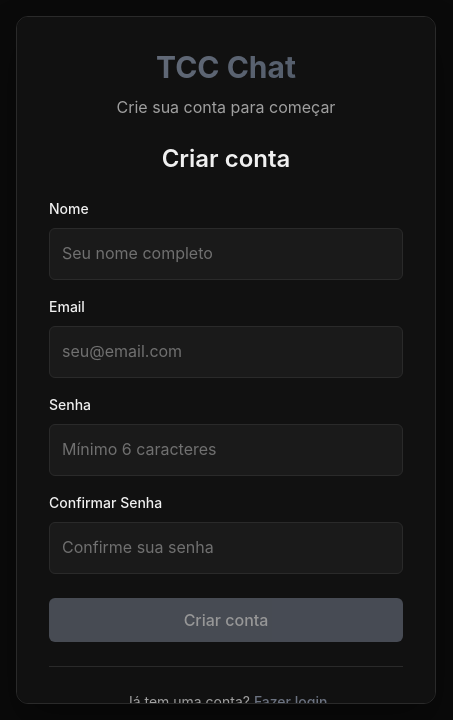
Test: Authentication Flow › Register Page › should navigate to login page
Click the link to "/login": coordinates (291, 702) [254,693,328,710]
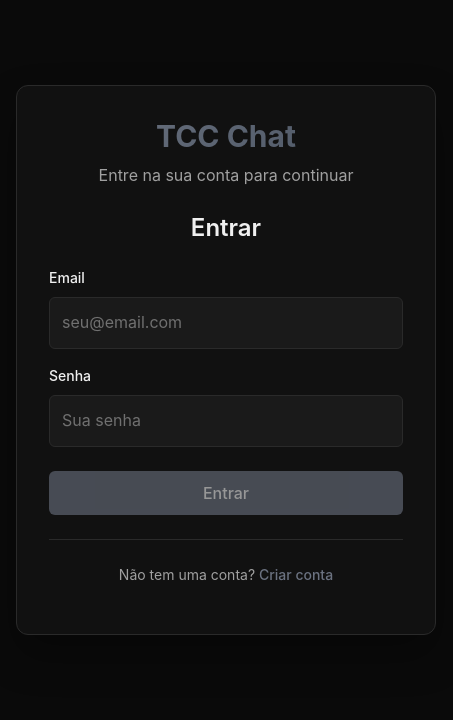
Expected: the heading "Entrar" is shown, [191,213,261,242]
